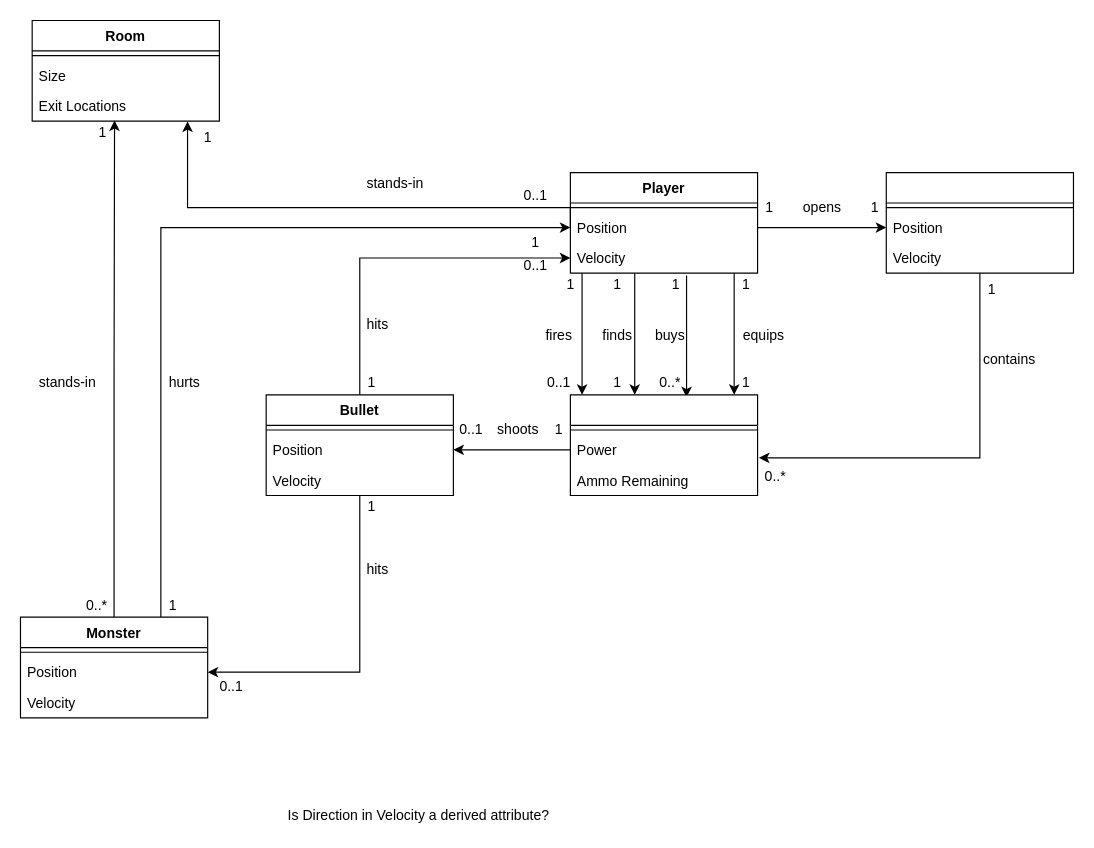
The diagram is 1094 pixels wide and 848 high, and some of its shapes have lost their labels. The box of each missing label's shape, as (x1, y1, x2, y2) in pixels:
Gun: (569, 394, 758, 495)
Treasure: (885, 171, 1073, 273)
